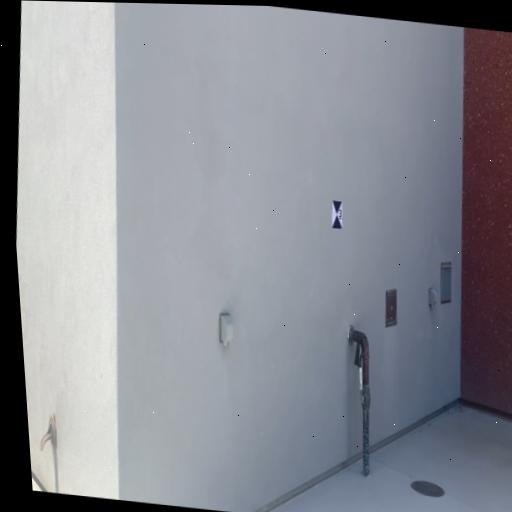target3: (331, 199, 343, 230)
